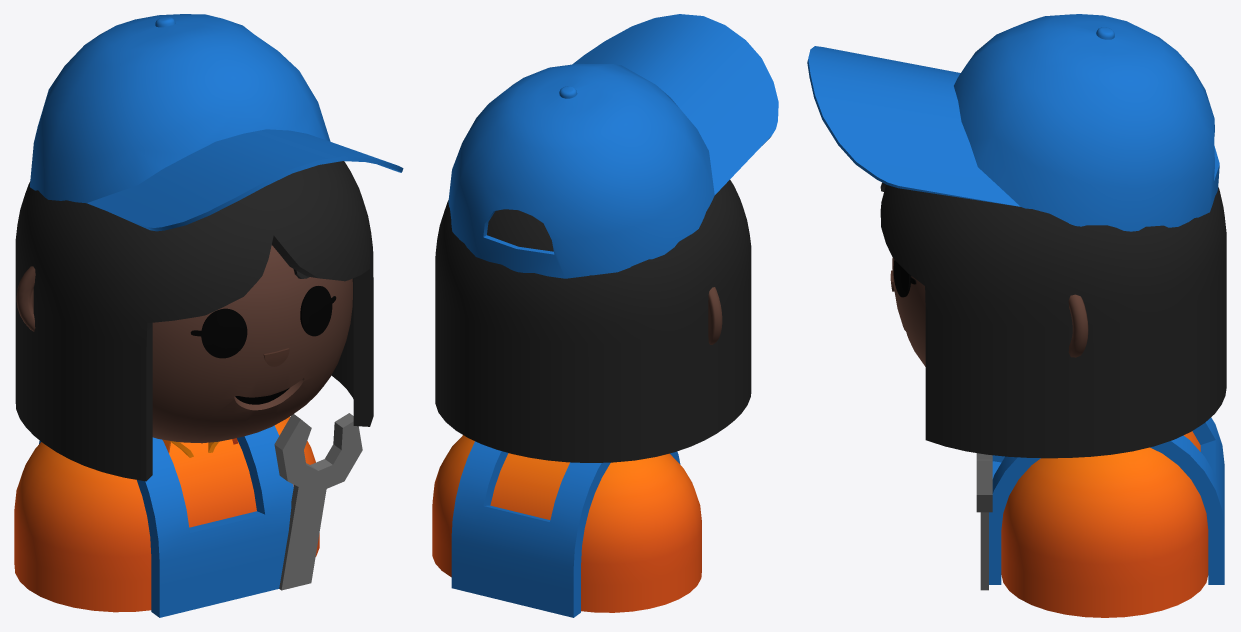
File: woman_mechanic.glb
3 views of the same model, side by side, from view 1: azimuth 30°, elevation 25°; view 2: azimuth 150°, elevation 25°; view 3: azimuth 270°, elevation 25° (orthographic). The views are drawn at different scales.
Visible parts, largest first — view 1: Roundcube.103, Circle.633, Sphere.059, Roundcube.102, Sphere.060, Circle.634, Circle.628, Cylinder.090; view 2: Roundcube.103, Circle.633, Sphere.059, Sphere.060, Cylinder.090; view 3: Roundcube.103, Circle.633, Sphere.059, Sphere.060, Circle.634, Roundcube.102, Cylinder.090.
Boxes of the visible parts, x1,y1,x2,y2 form: Roundcube.103: (15,161,373,481); Circle.633: (29,14,403,231); Sphere.059: (14,416,319,612); Roundcube.102: (152,245,352,443); Sphere.060: (39,425,293,617); Circle.634: (274,413,362,590); Circle.628: (201,286,332,358); Cylinder.090: (16,266,35,331); Roundcube.103: (435,180,751,462); Circle.633: (448,14,778,278); Sphere.059: (432,435,701,612); Sphere.060: (451,441,680,617); Cylinder.090: (708,287,722,344); Roundcube.103: (880,182,1226,458); Circle.633: (807,14,1219,231); Sphere.059: (1001,431,1208,617); Sphere.060: (989,417,1224,584); Circle.634: (976,453,992,590); Roundcube.102: (892,257,925,366); Cylinder.090: (1068,294,1088,357).
Size of the model in its own units: 1.56 by 2.49 by 1.81.
2 materials, 2 textured.
